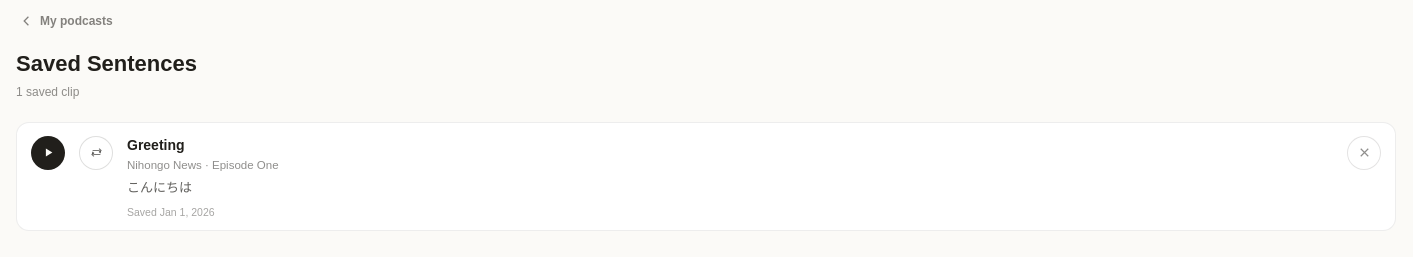
Scenario: SavedSentences › renames a clip via the inline editor
Click the text with test id "clip-name-1": coordinates (156, 144) left=127, top=136, right=185, bottom=152
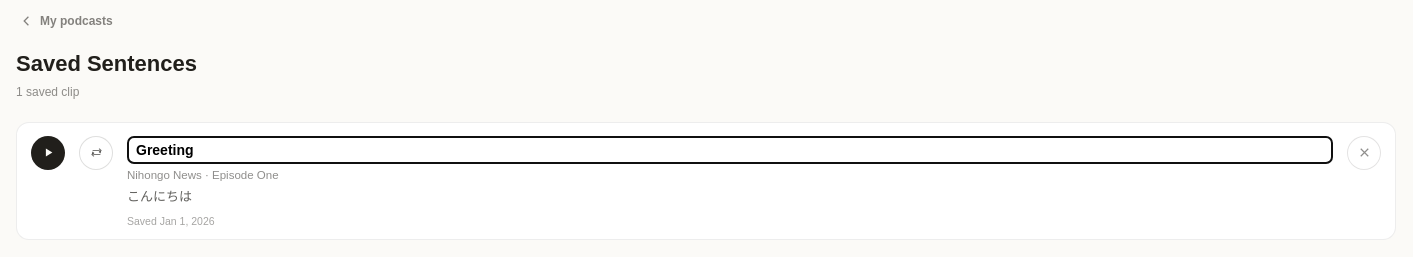
Replace the text in the field with test id "rename-input-1" with "Hello there": coordinates (730, 150) left=127, top=136, right=1333, bottom=164
Then press Enter
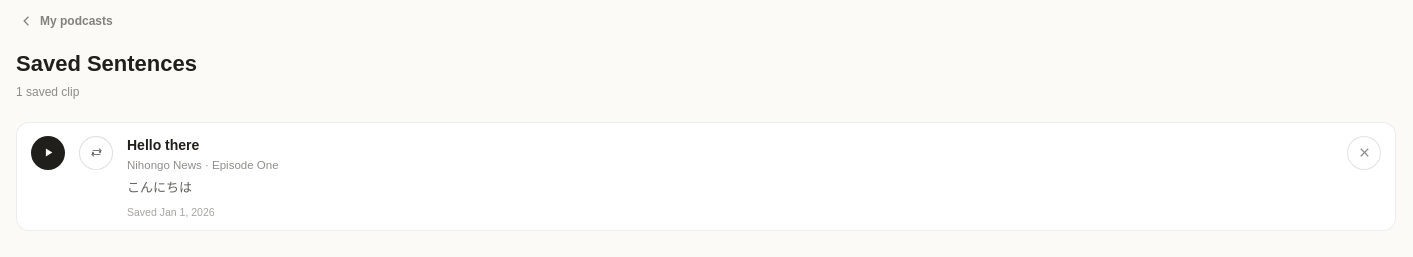
Check: the text "Hello there" is shown, box left=127, top=136, right=199, bottom=152
